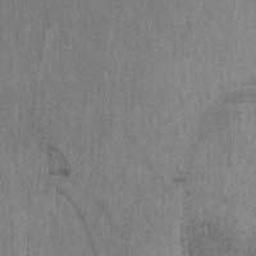Oil spot: (160, 77, 256, 255), (37, 134, 131, 255)
